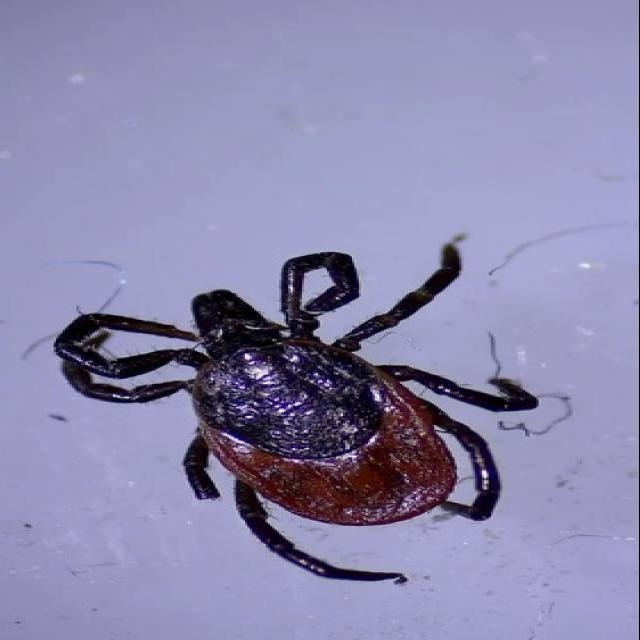Ixodes Ricinus-F: (55, 239, 540, 580)
